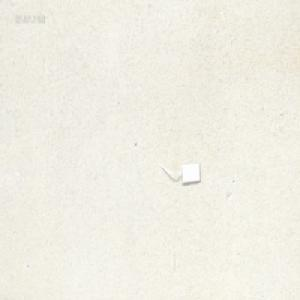LuggageTag: (160, 160, 200, 186)
